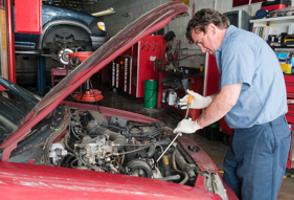person: (175, 7, 290, 200)
